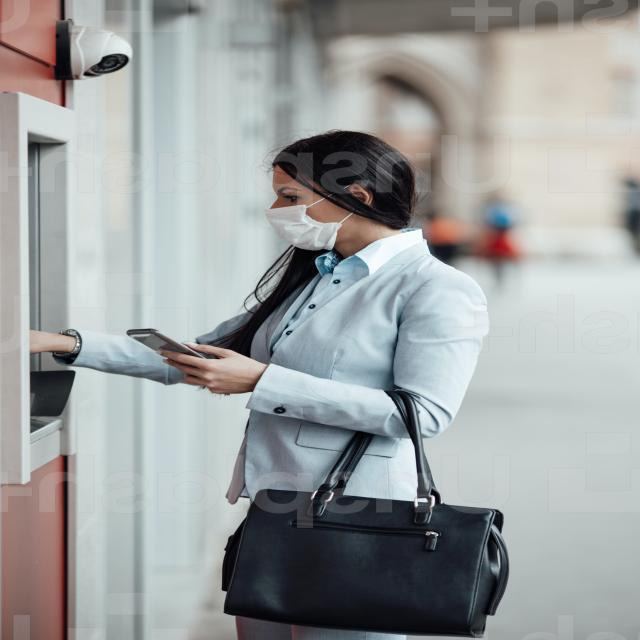adult: (34, 128, 487, 640)
